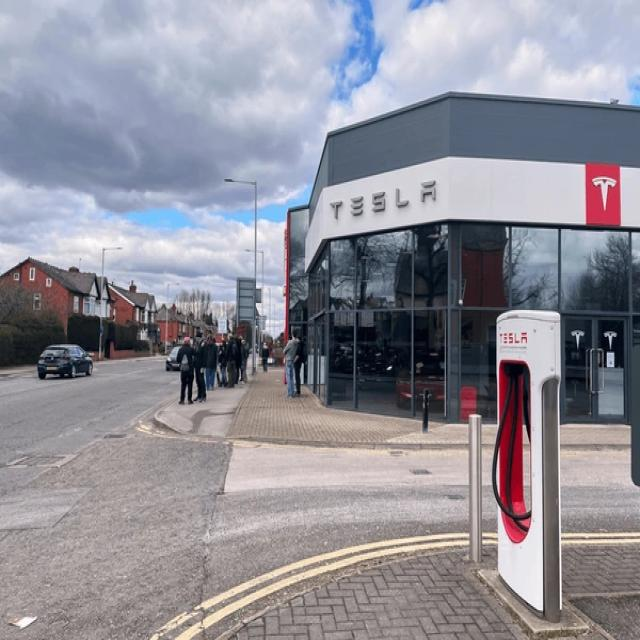tesla: (590, 168, 618, 220)
